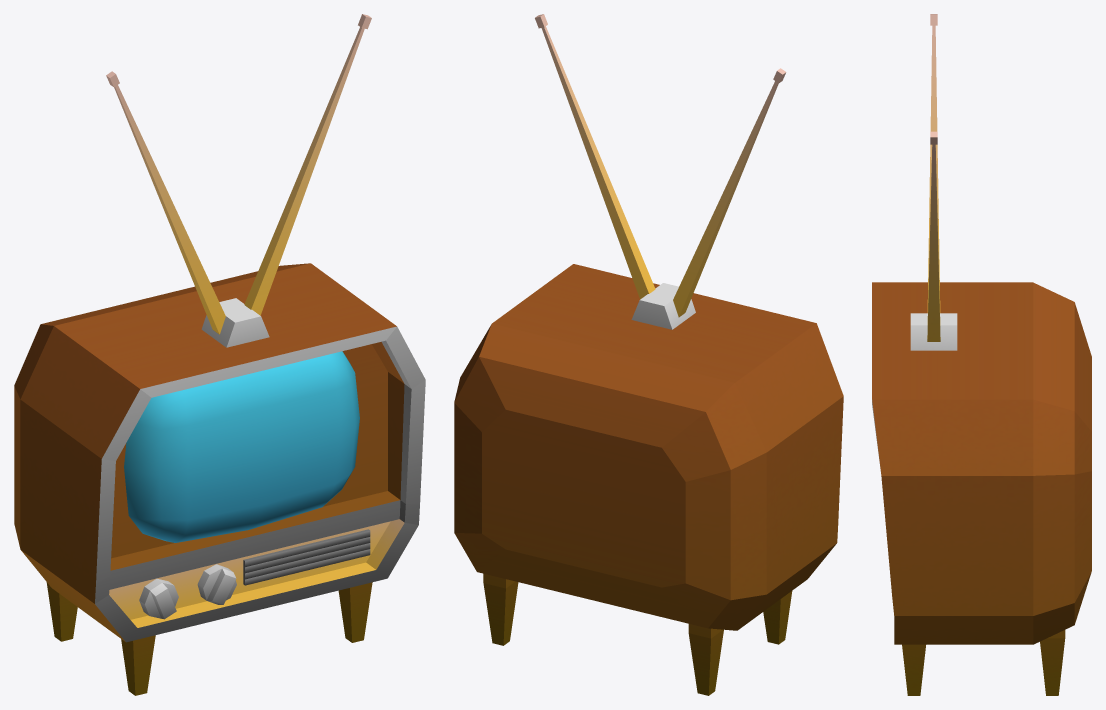
The picture shows the model from 3 angles, left to right: view 1: azimuth 30°, elevation 25°; view 2: azimuth 150°, elevation 25°; view 3: azimuth 270°, elevation 25°; orthographic projection. The views are drawn at different scales.
Parts seen in each view (by area): view 1: TV; view 2: TV; view 3: TV.
Boxes of the visible parts, x1,y1,x2,y2 form: TV: (14,14,425,695); TV: (454,14,843,695); TV: (872,14,1091,695).
Size of the model in its own units: 1.19 by 2.15 by 0.7471.
